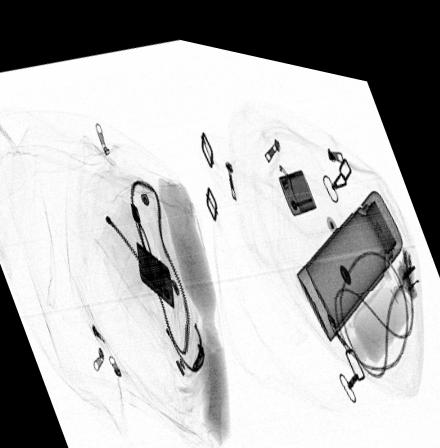Lighter: (135, 233, 173, 301), (276, 156, 316, 203)
